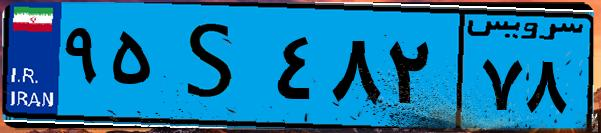2: (385, 28, 445, 110)
4: (270, 28, 330, 110)
5: (110, 28, 158, 98)
7: (475, 38, 525, 113)
8: (330, 28, 385, 110), (525, 38, 570, 115)
9: (57, 26, 110, 100)
S: (158, 12, 270, 120)
